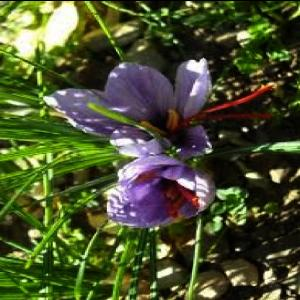Saffron: (42, 61, 219, 157), (105, 154, 216, 226)
